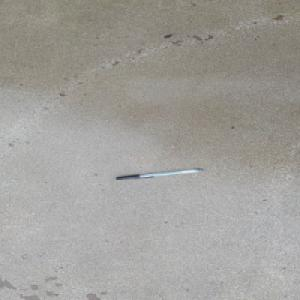Pen: (114, 167, 203, 180)
